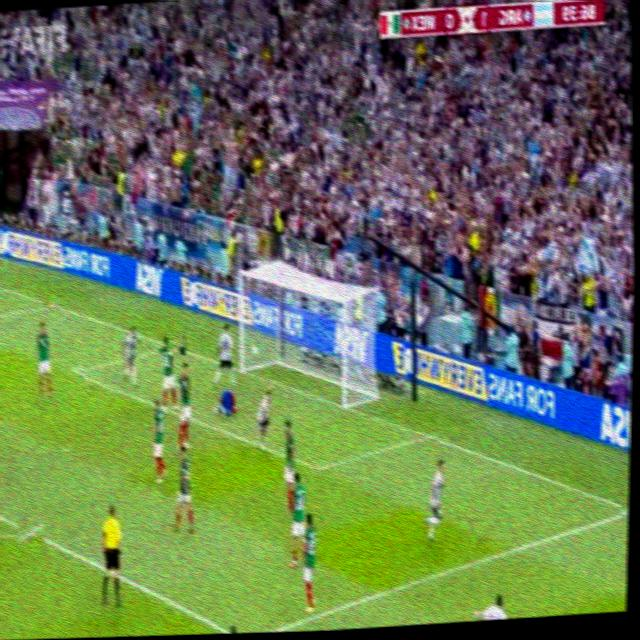bigarea_bottom_outter: (619, 492, 629, 525)
bigarea_top_outter: (42, 291, 60, 313)
bottom_arc_area_intersection: (16, 514, 45, 548)
smallarea_bottom_inner: (306, 451, 331, 482)
smallarea_bottom_outter: (414, 419, 438, 448)
smallarea_top_inner: (63, 359, 84, 382)
smallarea_top_outter: (166, 334, 186, 355)
